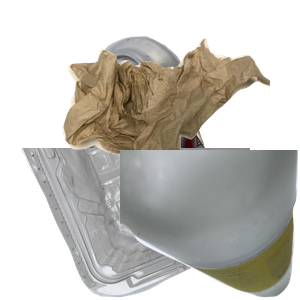glass: (120, 150, 300, 300)
metal: (73, 34, 285, 214)
plastic: (19, 148, 259, 300)
trash: (60, 36, 300, 198)
